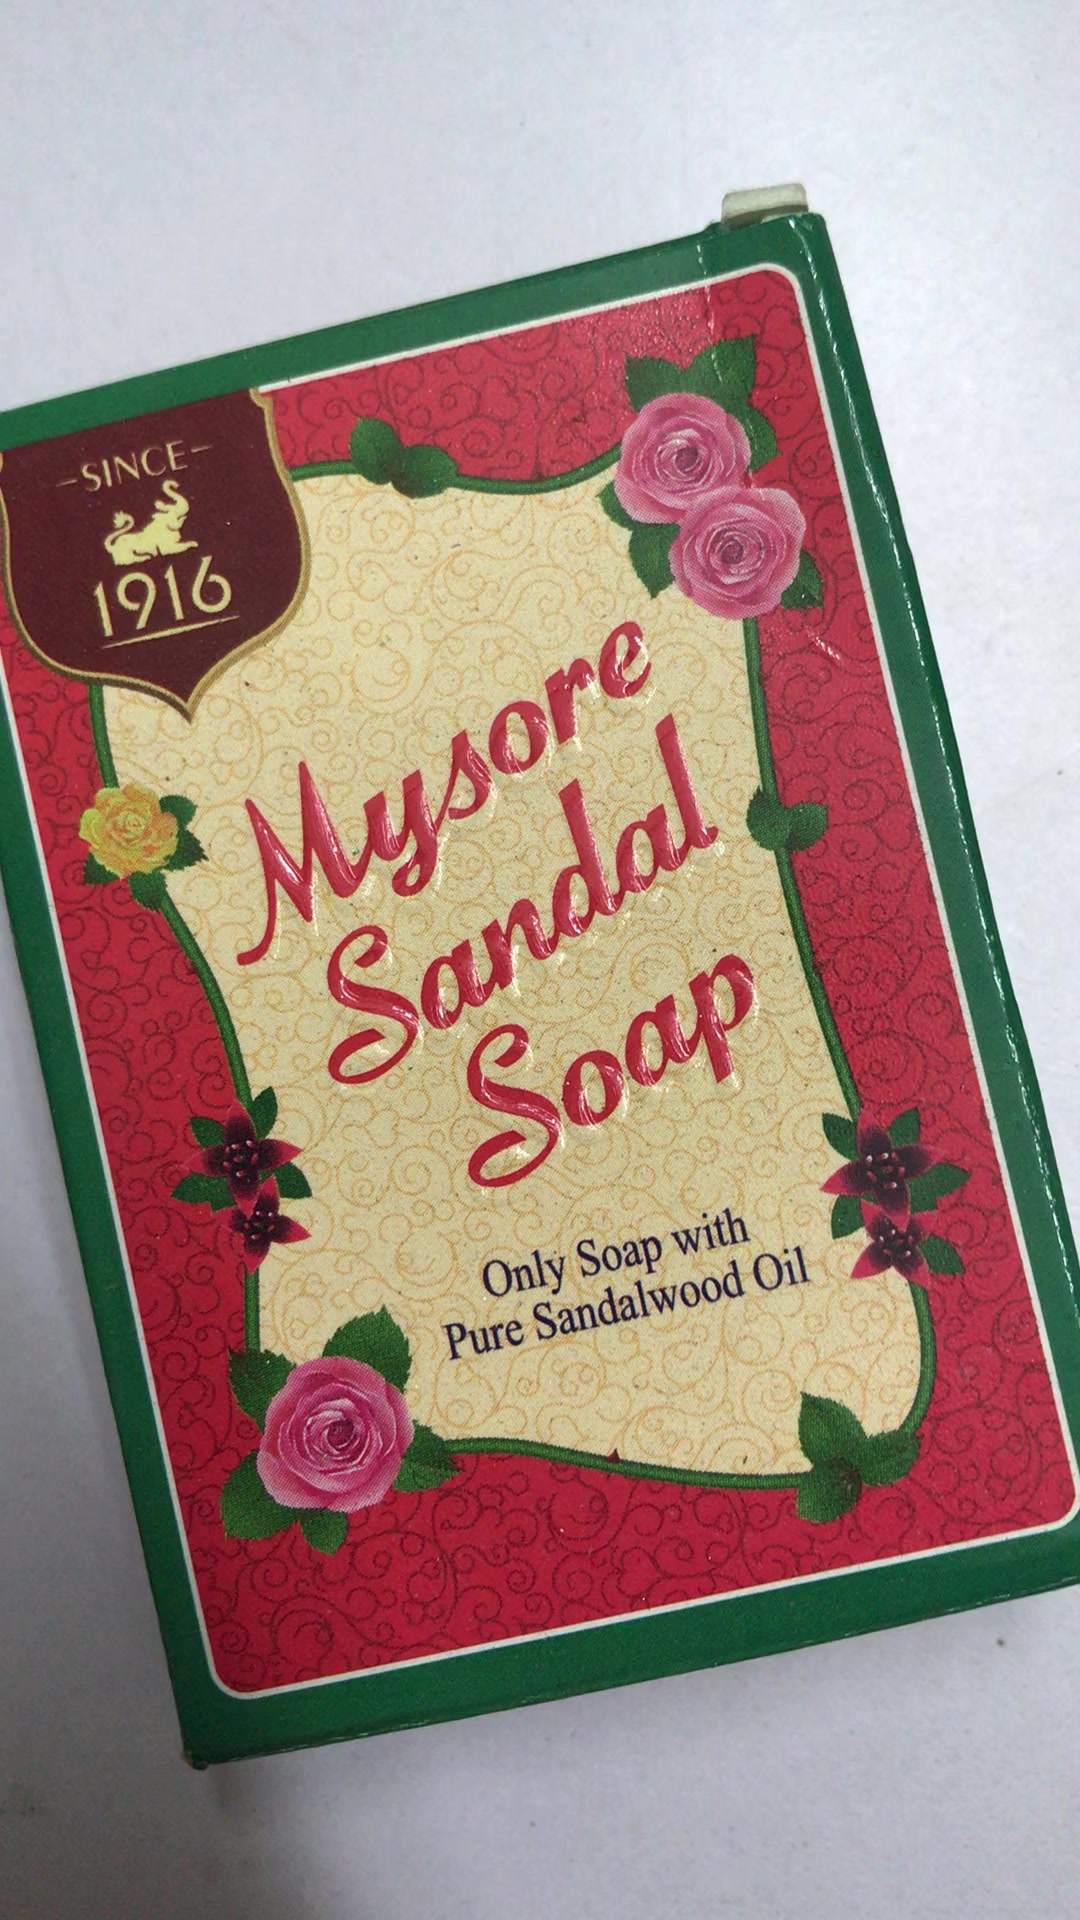mysore sandal soap: (5, 218, 1080, 1764)
